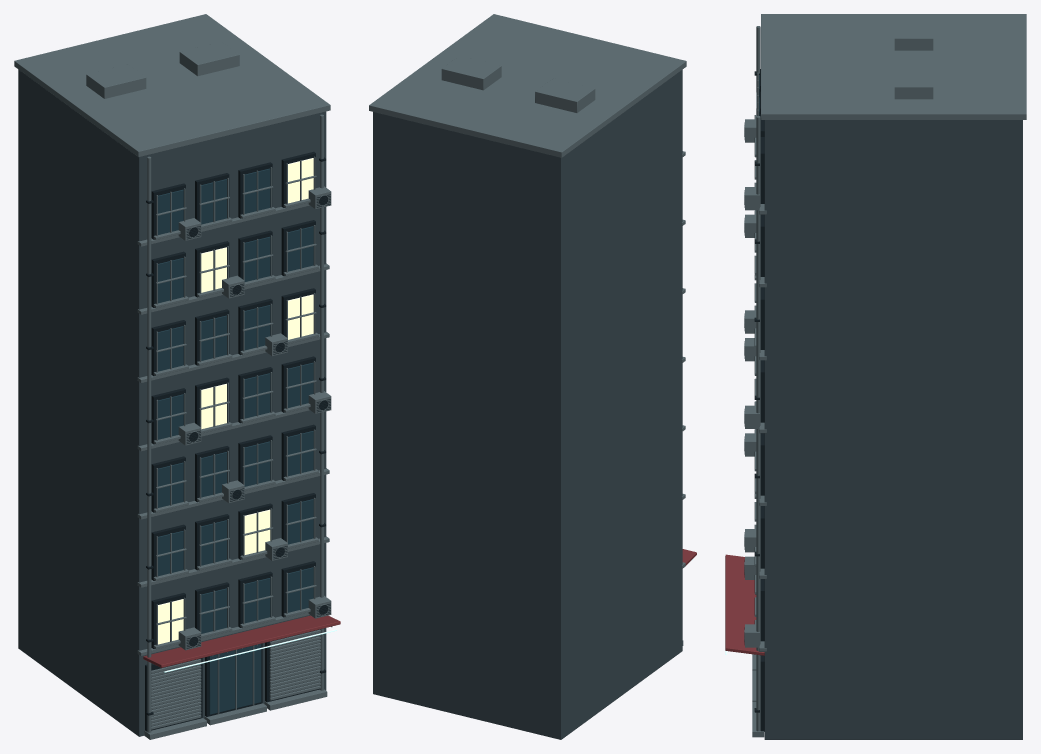
The model's file is alley_facade.glb.
3 renders of one model, left to right at view 1: azimuth 30°, elevation 25°; view 2: azimuth 150°, elevation 25°; view 3: azimuth 270°, elevation 25°, orthographic. The views are drawn at different scales.
Parts seen in each view (by area): view 1: Detail.alley_facade.Concrete, Detail.alley_facade.Metal, Detail.alley_facade.Glass, Detail.alley_facade.Dark, Detail.alley_facade.Light, Detail.alley_facade.Red; view 2: Detail.alley_facade.Concrete, Detail.alley_facade.Metal; view 3: Detail.alley_facade.Concrete, Detail.alley_facade.Metal, Detail.alley_facade.Dark, Detail.alley_facade.Red.
Part boxes in pixels (box(x1,y1,x2,y2)): Detail.alley_facade.Concrete: box(18, 69, 326, 736); Detail.alley_facade.Metal: box(14, 14, 332, 739); Detail.alley_facade.Glass: box(158, 168, 313, 714); Detail.alley_facade.Dark: box(145, 151, 330, 731); Detail.alley_facade.Light: box(158, 158, 313, 644); Detail.alley_facade.Red: box(143, 615, 340, 667); Detail.alley_facade.Concrete: box(373, 70, 682, 739); Detail.alley_facade.Metal: box(369, 14, 686, 645); Detail.alley_facade.Concrete: box(764, 120, 1022, 739); Detail.alley_facade.Metal: box(744, 14, 1026, 737); Detail.alley_facade.Dark: box(744, 69, 764, 731); Detail.alley_facade.Red: box(725, 554, 764, 655).
Size of the model in its own units: 8.25 by 24.56 by 10.49.
